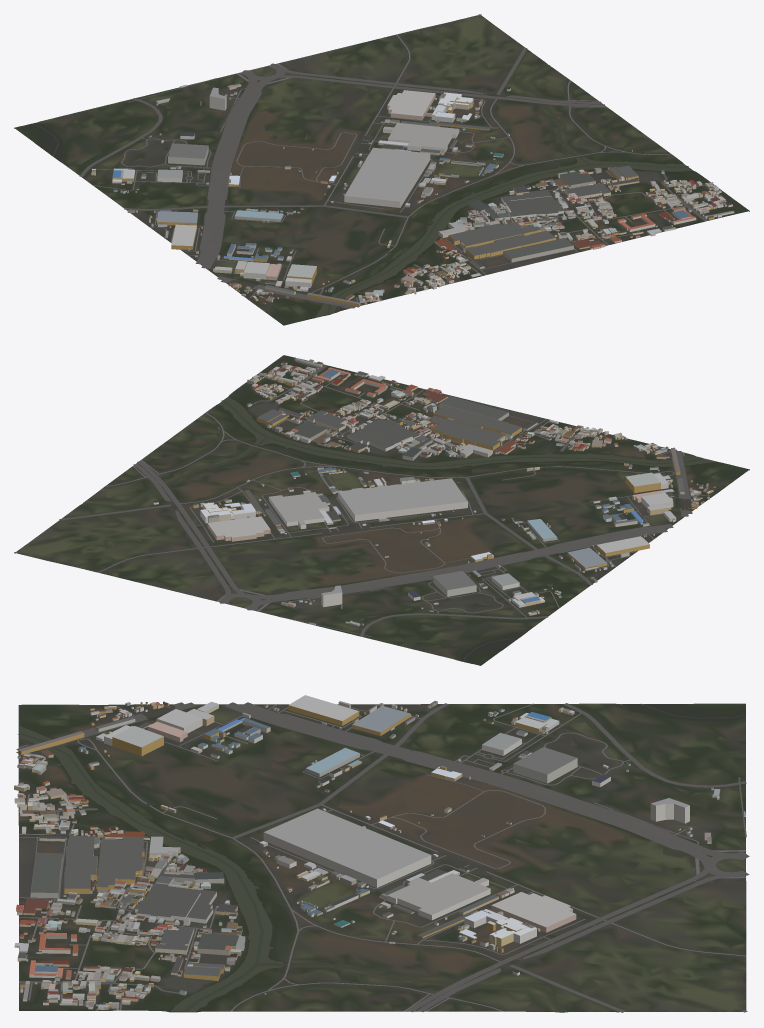
The picture shows the model from 3 angles, top to bottom: view 1: azimuth 30°, elevation 25°; view 2: azimuth 150°, elevation 25°; view 3: azimuth 270°, elevation 25°; orthographic projection. The views are drawn at different scales.
Visible parts, largest first — view 1: ground, buildings, roads, water; view 2: ground, buildings, roads, water; view 3: ground, buildings, roads, water.
Part boxes in pixels (x1=…): ground: x1=14, y1=15, x2=749, y2=325; buildings: x1=91, y1=83, x2=734, y2=306; roads: x1=79, y1=14, x2=720, y2=308; water: x1=24, y1=64, x2=692, y2=317; ground: x1=16, y1=355, x2=749, y2=665; buildings: x1=153, y1=358, x2=715, y2=626; roads: x1=14, y1=361, x2=710, y2=636; water: x1=83, y1=397, x2=716, y2=663; ground: x1=18, y1=703, x2=746, y2=1012; buildings: x1=14, y1=695, x2=745, y2=1010; roads: x1=16, y1=702, x2=749, y2=1012; water: x1=18, y1=704, x2=745, y2=1012.
Bounding box in the file's own units: 1422 × 40.15 × 1417.
